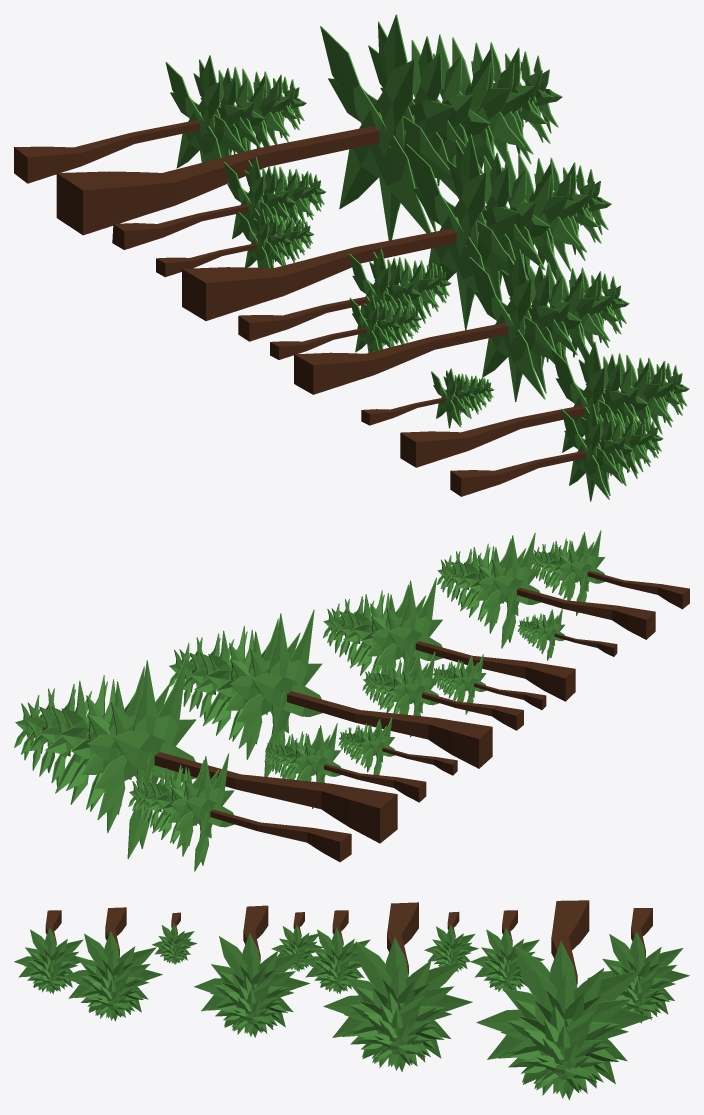
File: ConnectedTrees.fbx
3 renders of one model, top to bottom at view 1: azimuth 30°, elevation 25°; view 2: azimuth 150°, elevation 25°; view 3: azimuth 270°, elevation 25°, orthographic. The views are drawn at different scales.
Parts seen in each view (by area): view 1: Tree009, Tree007, Tree010, Tree002, Tree004, Tree003, Tree008, Tree001, Tree006, Tree005, Tree011; view 2: Tree009, Tree007, Tree010, Tree002, Tree004, Tree003, Tree001, Tree008, Tree006, Tree005, Tree011; view 3: Tree009, Tree007, Tree010, Tree004, Tree002, Tree003, Tree001, Tree008, Tree006, Tree005, Tree011.
Part boxes in pixels (x1=…): Tree009: x1=56, y1=14, x2=562, y2=240; Tree007: x1=182, y1=134, x2=611, y2=330; Tree010: x1=294, y1=249, x2=629, y2=401; Tree002: x1=14, y1=55, x2=306, y2=183; Tree004: x1=400, y1=342, x2=689, y2=467; Tree003: x1=450, y1=404, x2=663, y2=501; Tree008: x1=112, y1=157, x2=326, y2=249; Tree001: x1=238, y1=248, x2=451, y2=344; Tree006: x1=156, y1=209, x2=314, y2=277; Tree005: x1=270, y1=294, x2=421, y2=359; Tree011: x1=361, y1=368, x2=494, y2=428; Tree009: x1=14, y1=655, x2=397, y2=859; Tree007: x1=169, y1=609, x2=492, y2=776; Tree010: x1=323, y1=577, x2=575, y2=701; Tree002: x1=128, y1=753, x2=351, y2=871; Tree004: x1=436, y1=532, x2=655, y2=648; Tree003: x1=531, y1=530, x2=689, y2=615; Tree001: x1=362, y1=651, x2=523, y2=737; Tree008: x1=264, y1=723, x2=426, y2=808; Tree006: x1=338, y1=717, x2=457, y2=775; Tree005: x1=433, y1=654, x2=546, y2=714; Tree011: x1=517, y1=608, x2=617, y2=660; Tree009: x1=476, y1=900, x2=652, y2=1100; Tree007: x1=323, y1=902, x2=472, y2=1071; Tree010: x1=194, y1=905, x2=310, y2=1037; Tree004: x1=64, y1=907, x2=162, y2=1021; Tree002: x1=587, y1=908, x2=689, y2=1023; Tree003: x1=14, y1=910, x2=87, y2=994; Tree001: x1=302, y1=910, x2=370, y2=994; Tree008: x1=470, y1=910, x2=544, y2=991; Tree006: x1=424, y1=912, x2=478, y2=971; Tree005: x1=271, y1=912, x2=322, y2=971; Tree011: x1=152, y1=912, x2=196, y2=964.
Bounding box in the file's own units: 2152 × 1033 × 3951.
